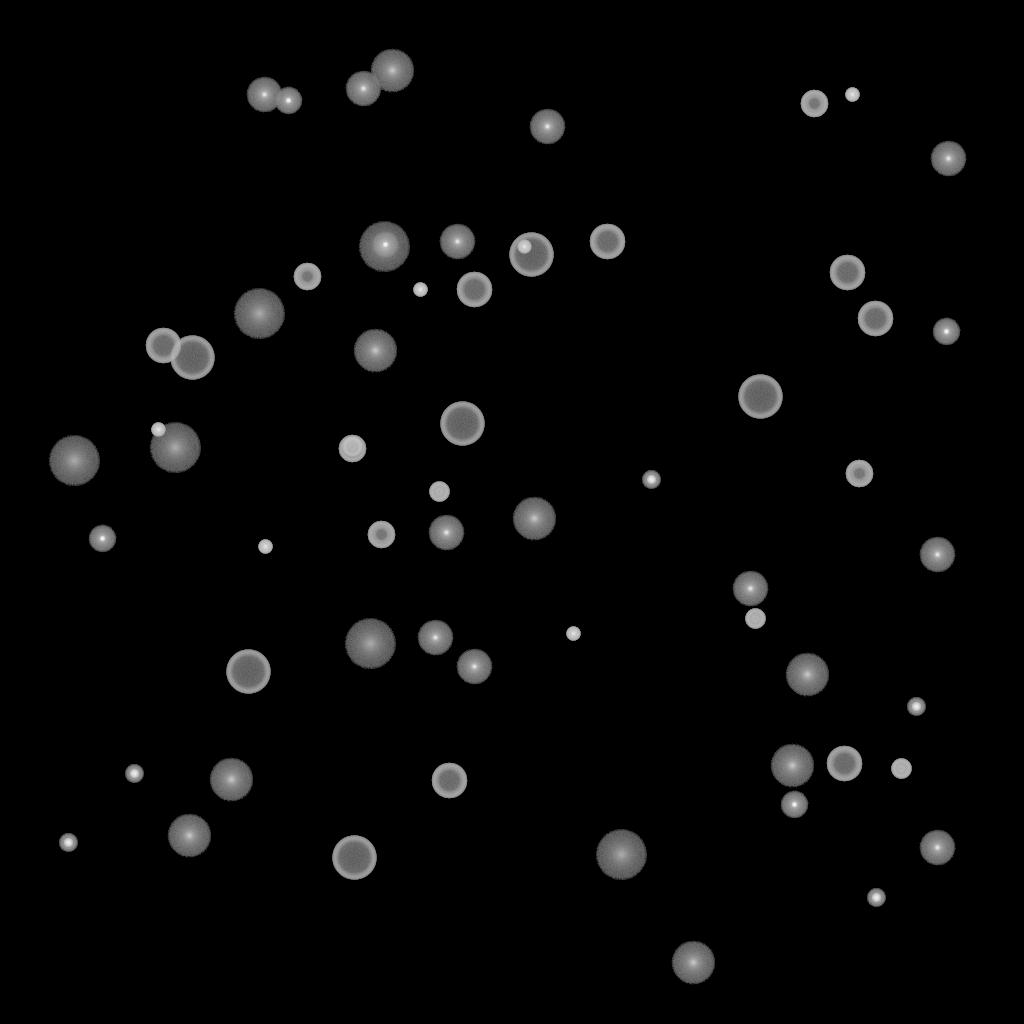depth:-10: (274, 87, 302, 115), (780, 791, 808, 819), (371, 231, 399, 259), (932, 318, 960, 346), (88, 525, 116, 553)
depth:-20: (59, 834, 77, 852), (125, 765, 143, 783), (642, 471, 660, 489), (907, 698, 925, 716), (867, 889, 885, 907)
depth:-30: (517, 240, 531, 254), (258, 540, 272, 554), (151, 423, 165, 437), (845, 88, 859, 102), (566, 627, 580, 641), (413, 283, 427, 297)
depth:-40: (891, 759, 911, 779), (429, 482, 449, 502), (342, 437, 362, 457), (745, 609, 765, 629)
depth:-50: (367, 521, 395, 549), (845, 460, 873, 488), (293, 263, 321, 291), (800, 90, 828, 118), (338, 435, 366, 463)
depth:-60: (857, 301, 893, 337), (456, 272, 492, 308), (431, 763, 467, 799), (589, 224, 625, 260), (145, 328, 181, 364), (829, 255, 865, 291), (826, 746, 862, 782)
depth:-70: (440, 402, 484, 446), (738, 375, 782, 419), (170, 336, 214, 380), (226, 650, 270, 694), (332, 836, 376, 880), (509, 233, 553, 277)
depth:0: (930, 141, 966, 177), (919, 537, 955, 573), (345, 71, 381, 107), (456, 649, 492, 685), (439, 224, 475, 260), (417, 620, 453, 656), (246, 77, 282, 113), (919, 830, 955, 866), (732, 571, 768, 607), (428, 515, 464, 551), (529, 109, 565, 145)
depth:10: (370, 49, 414, 93), (167, 814, 211, 858), (353, 329, 397, 373), (512, 497, 556, 541), (785, 653, 829, 697), (671, 941, 715, 985), (770, 744, 814, 788), (209, 758, 253, 802)
depth:20: (233, 289, 285, 339), (149, 423, 201, 473), (344, 619, 396, 669), (358, 222, 410, 272), (595, 830, 647, 880), (48, 436, 100, 486)
